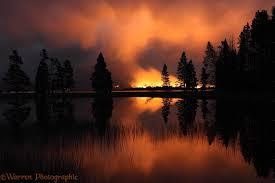fire: (129, 71, 183, 90)
